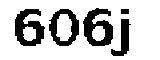0: (48, 5, 81, 50)
6: (13, 3, 46, 50), (82, 5, 114, 49)
j: (113, 2, 137, 59)
